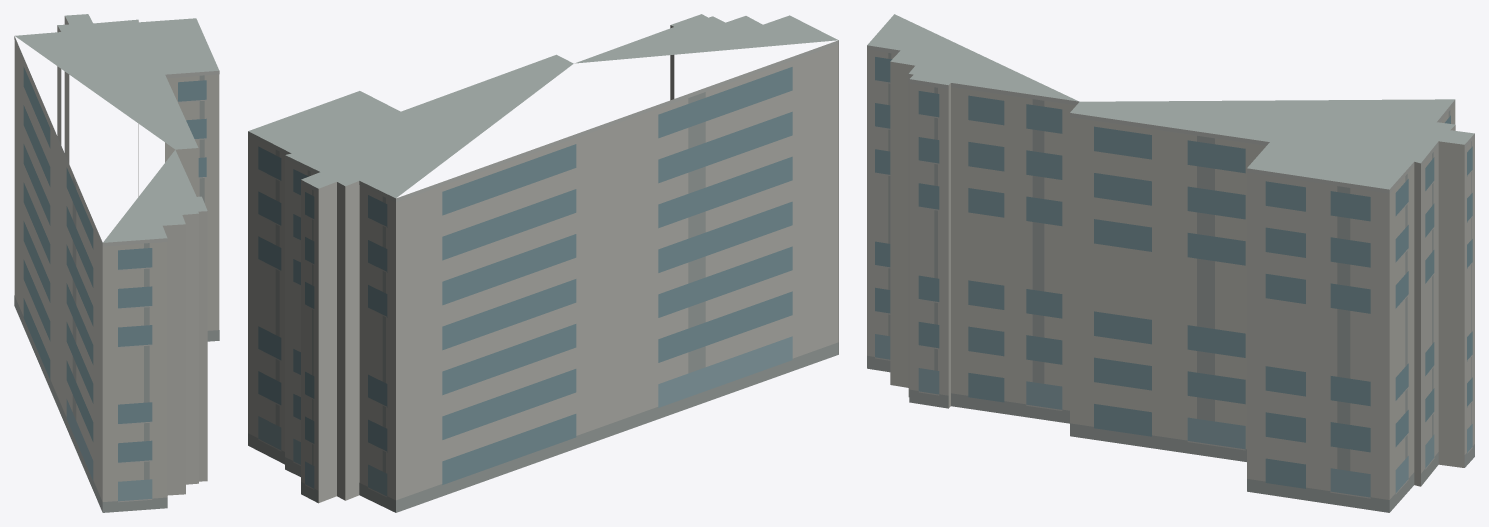
The model's file is survey-upis-32754208.glb.
3 renders of one model, left to right at view 1: azimuth 30°, elevation 25°; view 2: azimuth 150°, elevation 25°; view 3: azimuth 270°, elevation 25°, orthographic. The views are drawn at different scales.
Visible parts, largest first — view 1: survey-upis-32754208.tmp; view 2: survey-upis-32754208.tmp; view 3: survey-upis-32754208.tmp.
Part boxes in pixels (x1,y1,x2,y2): survey-upis-32754208.tmp: (14,14,219,512); survey-upis-32754208.tmp: (248,14,838,512); survey-upis-32754208.tmp: (867,14,1474,512).
Bounding box in the file's own units: 21.49 × 18.45 × 31.44.
